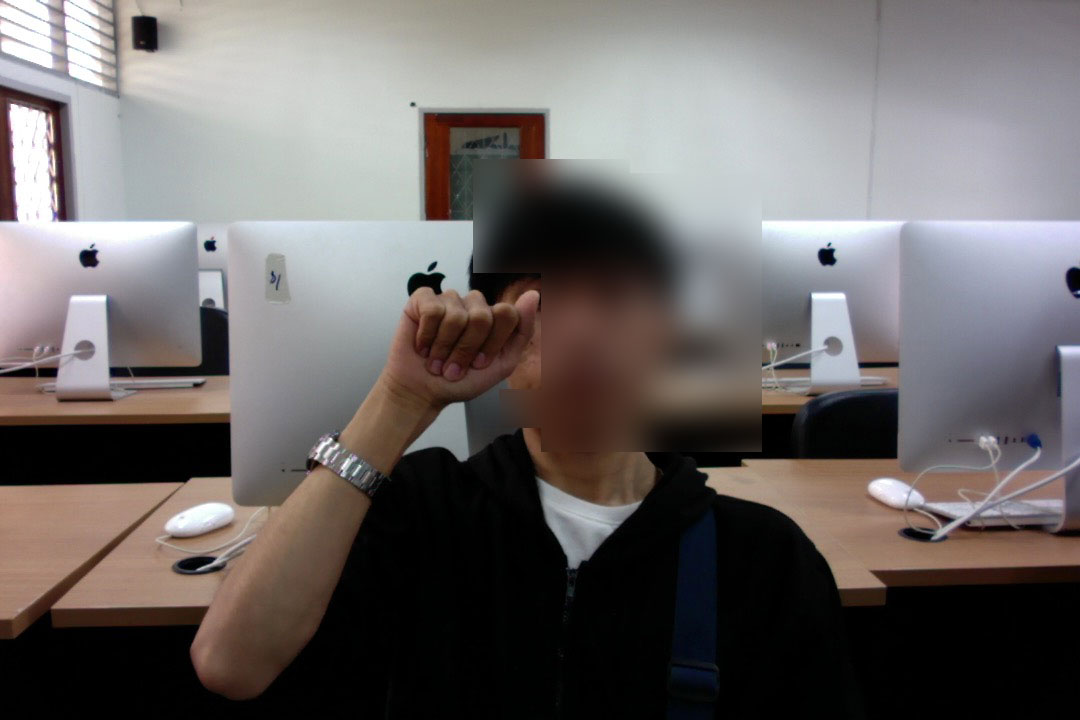or: (360, 281, 550, 409)
